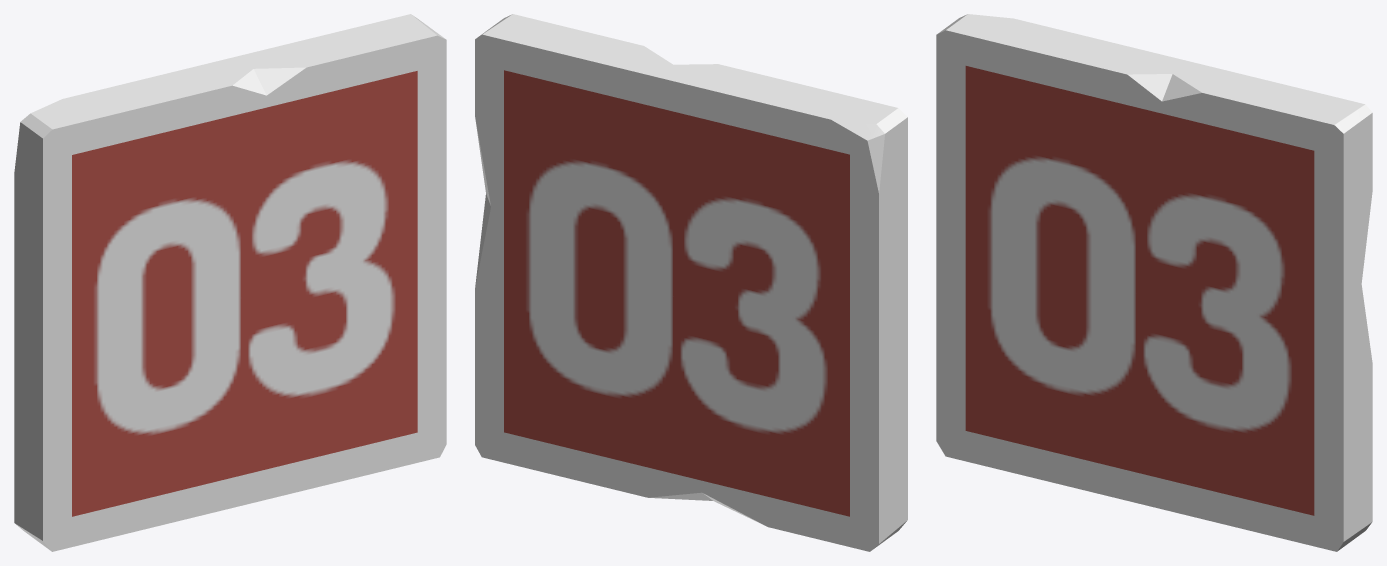
File: SM_SignBorder_Number_03.fbx
3 views of the same model, side by side, from view 1: azimuth 30°, elevation 25°; view 2: azimuth 150°, elevation 25°; view 3: azimuth 330°, elevation 25° (orthographic).
Parts seen in each view (by area): view 1: SM_SignBorder_Number_03; view 2: SM_SignBorder_Number_03; view 3: SM_SignBorder_Number_03.
Part boxes in pixels (left/top/right/bottom): SM_SignBorder_Number_03: left=14, top=14, right=446, bottom=551; SM_SignBorder_Number_03: left=475, top=14, right=907, bottom=551; SM_SignBorder_Number_03: left=936, top=14, right=1372, bottom=551.
Bounding box in the file's own units: 117 × 117 × 14.42.
Materials: 1 (1 with a texture image).
